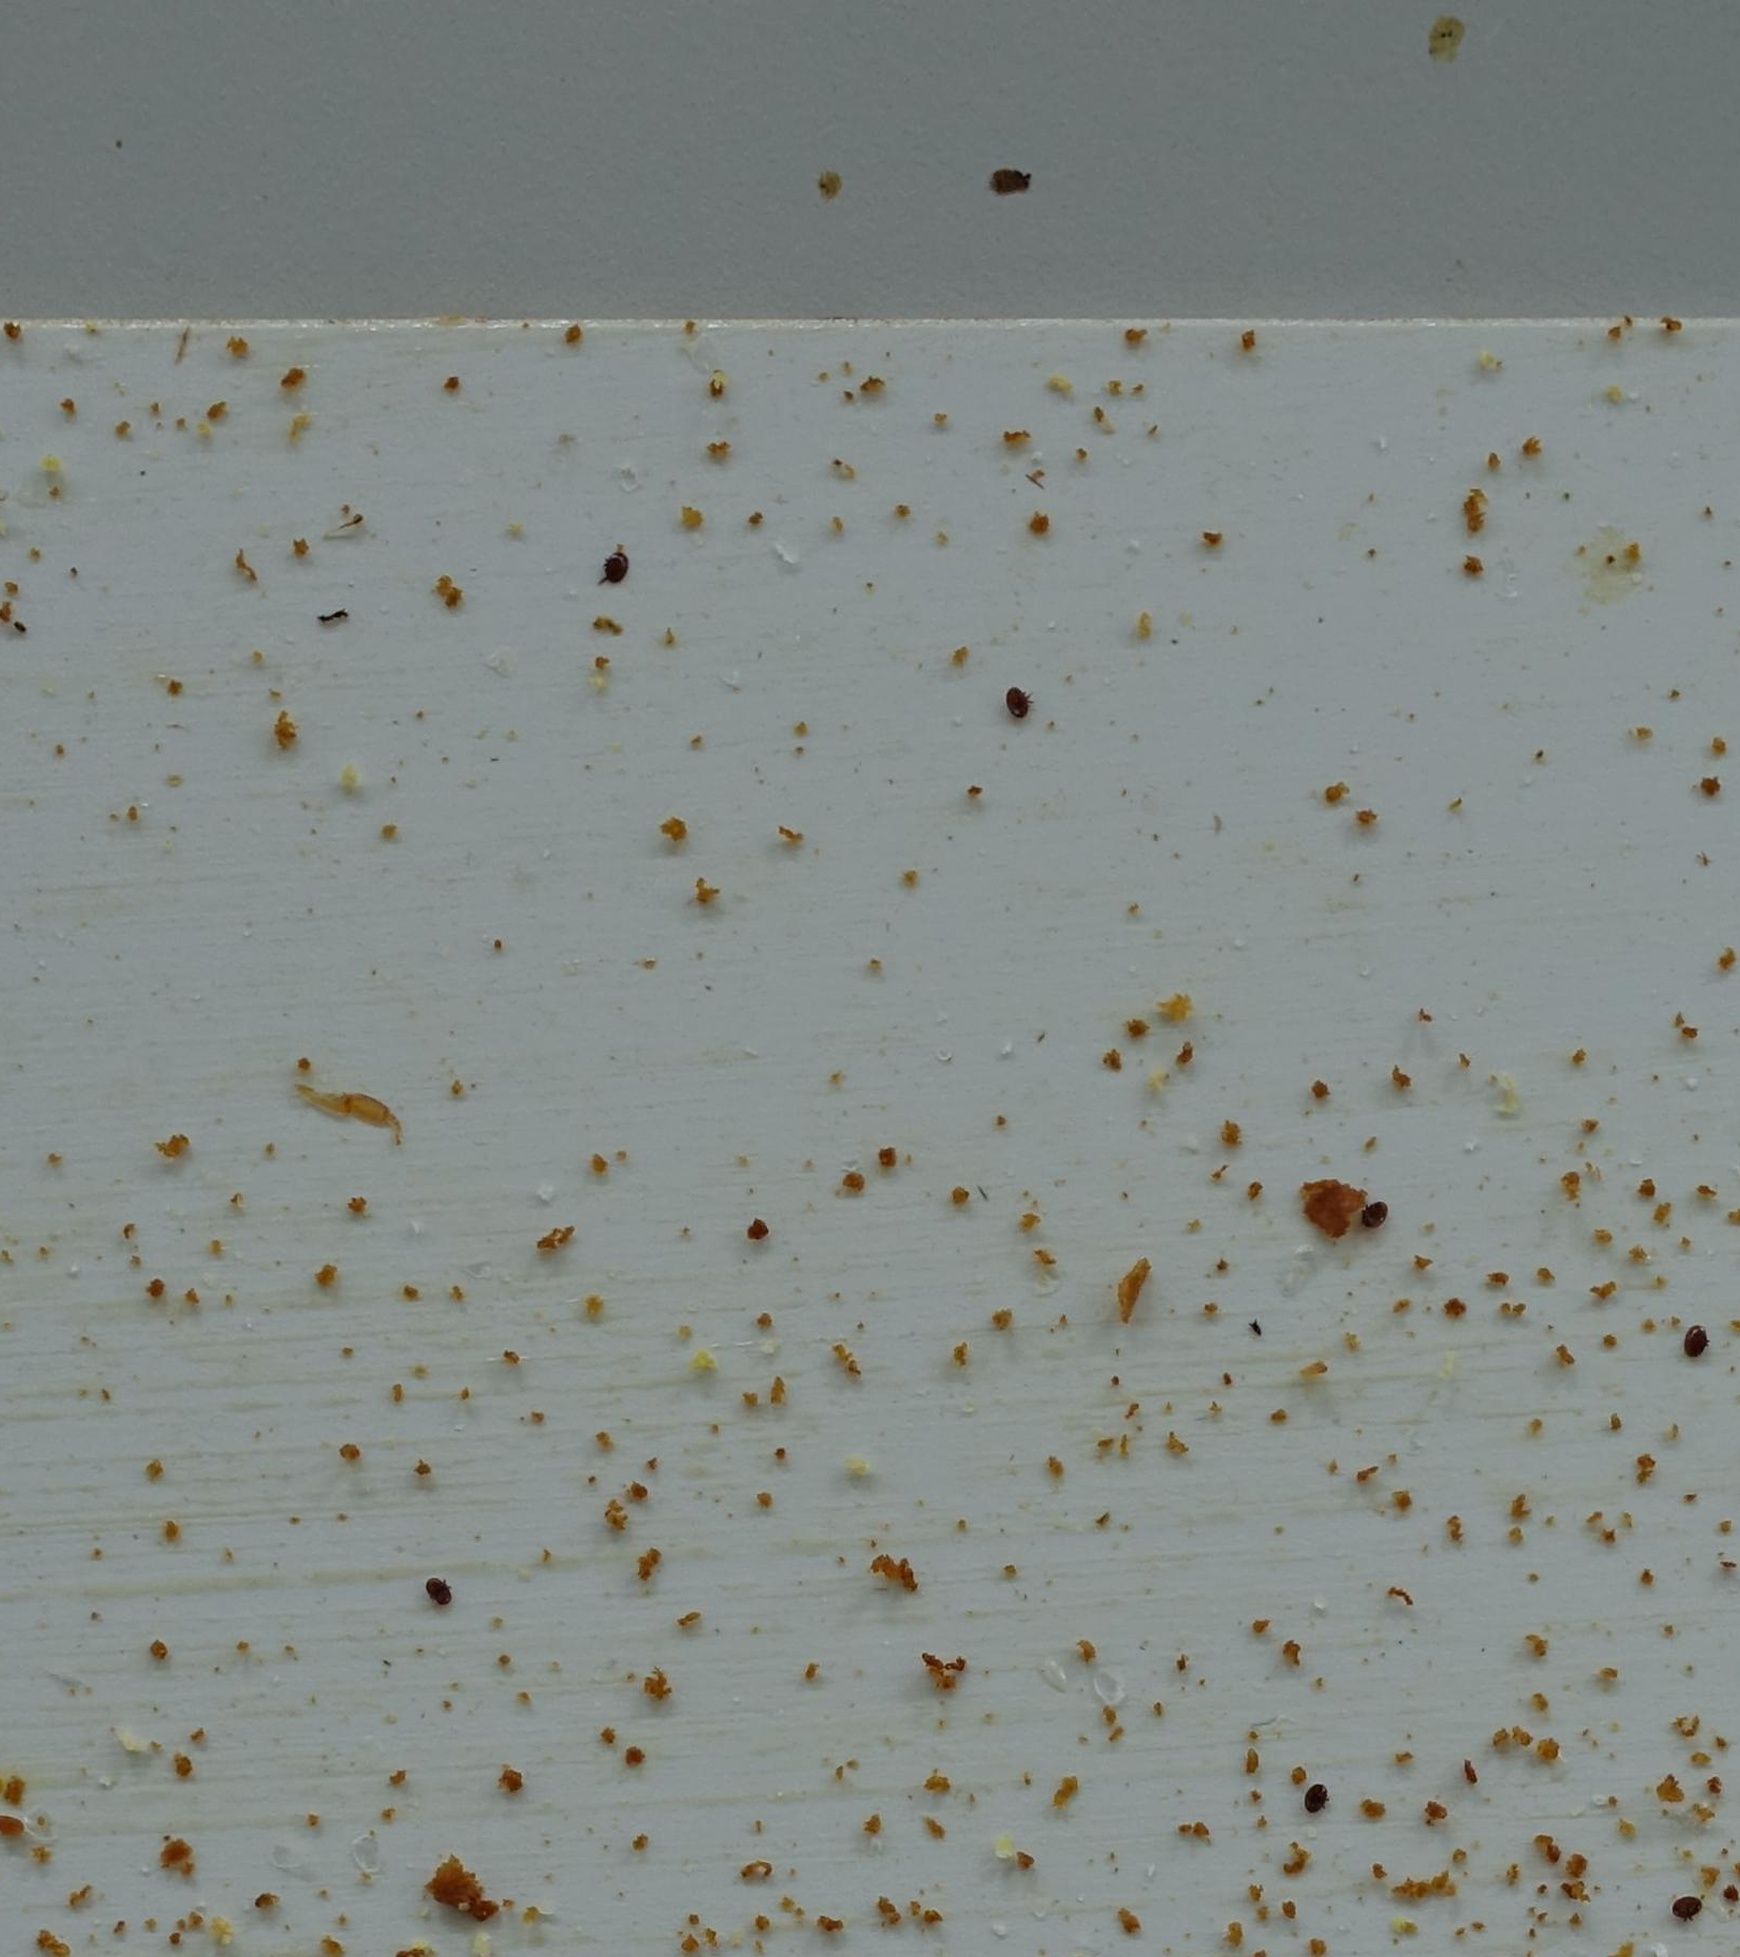Varroa: (423, 1577, 450, 1606), (1359, 1199, 1386, 1228), (1668, 1891, 1695, 1918), (1303, 1786, 1330, 1813), (1681, 1329, 1706, 1356), (1008, 695, 1026, 717), (605, 556, 625, 575)
